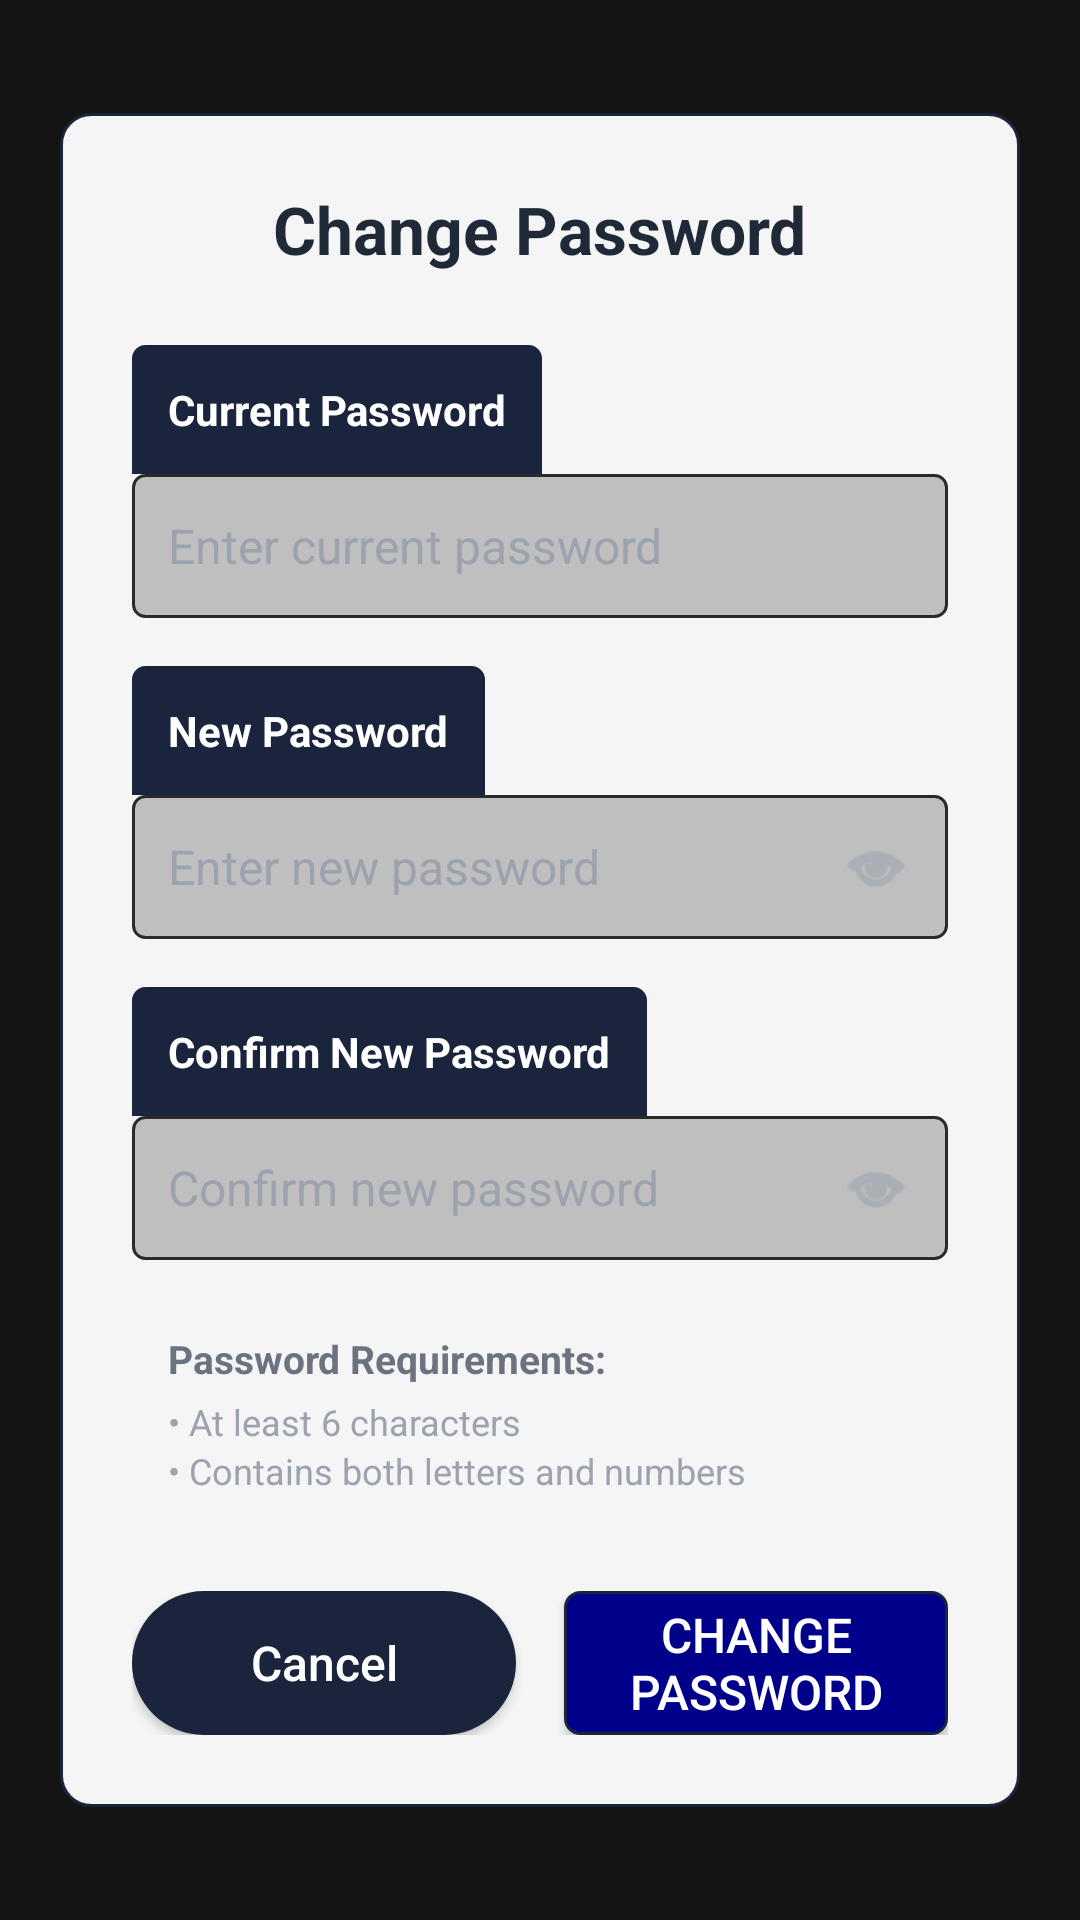

Screen size 1080 x 1920. Icon name, then its center in pixels as (x=x, y=y):
view: (x=876, y=867), (x=876, y=1188)
